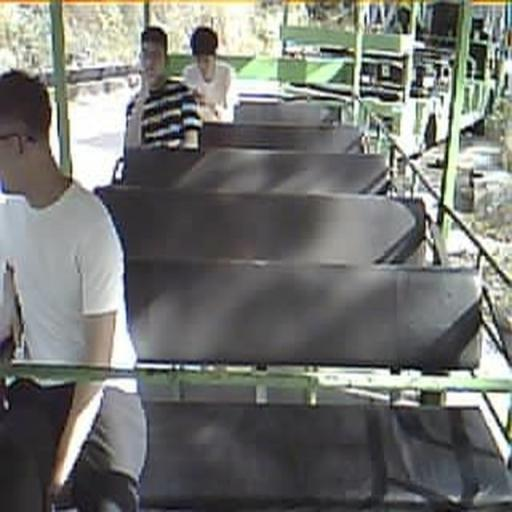persona: (0, 68, 150, 510), (121, 25, 204, 162), (180, 25, 232, 120)
